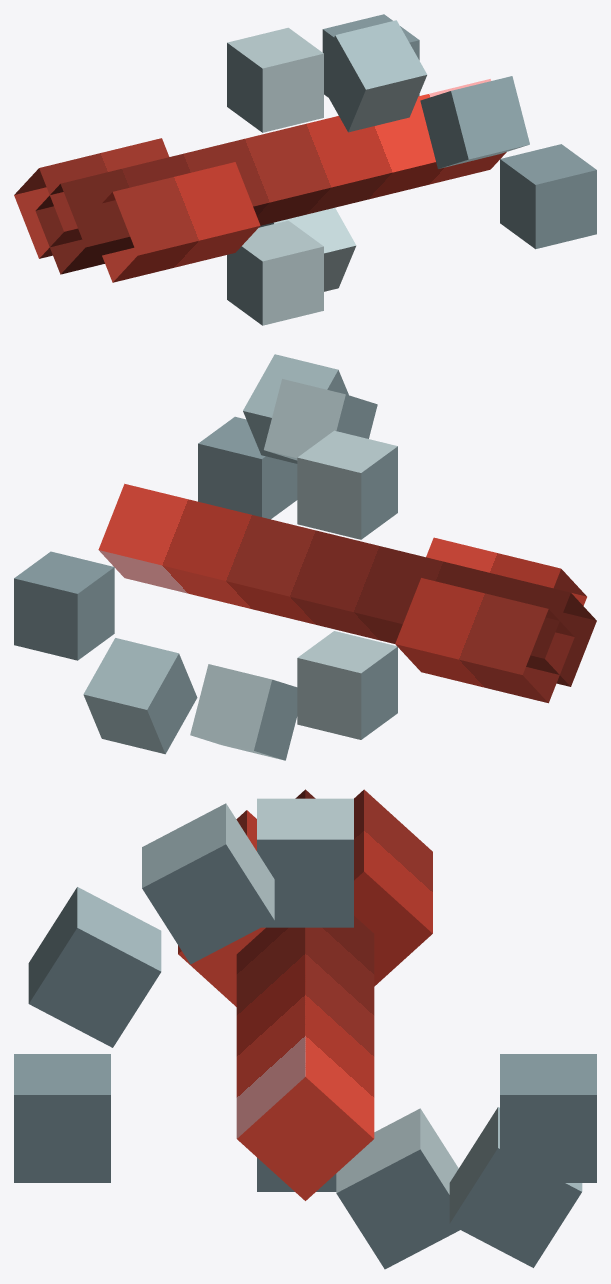
File: signalite_spike_chaotic.obj
3 views of the same model, one above another, from view 1: azimuth 30°, elevation 25°; view 2: azimuth 150°, elevation 25°; view 3: azimuth 270°, elevation 25° (orthographic). The views are drawn at different scales.
Visible parts, largest first — view 1: SPIKE_CHAOTIC_Cube.016; view 2: SPIKE_CHAOTIC_Cube.016; view 3: SPIKE_CHAOTIC_Cube.016.
Part boxes in pixels (x1=…): SPIKE_CHAOTIC_Cube.016: x1=14, y1=14, x2=596, y2=325; SPIKE_CHAOTIC_Cube.016: x1=14, y1=354, x2=596, y2=760; SPIKE_CHAOTIC_Cube.016: x1=14, y1=789, x2=596, y2=1269.
Size of the model in its own units: 0.4375 by 0.3019 by 0.375.
